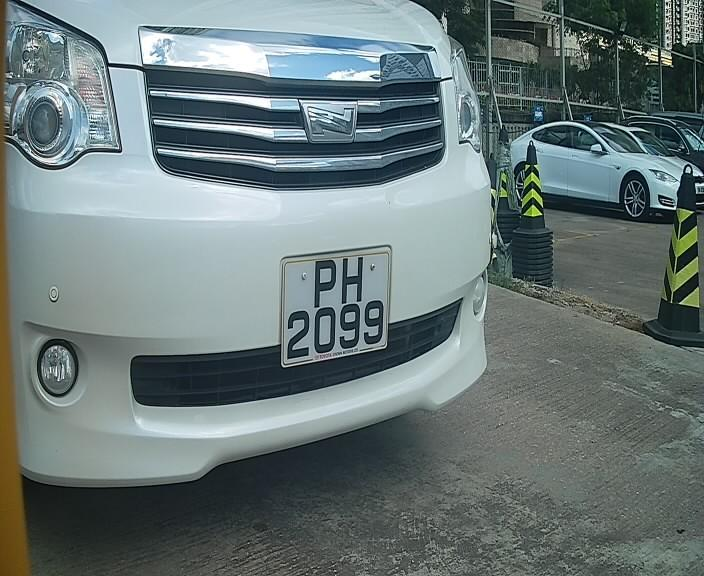License Plate: (271, 237, 403, 373)
